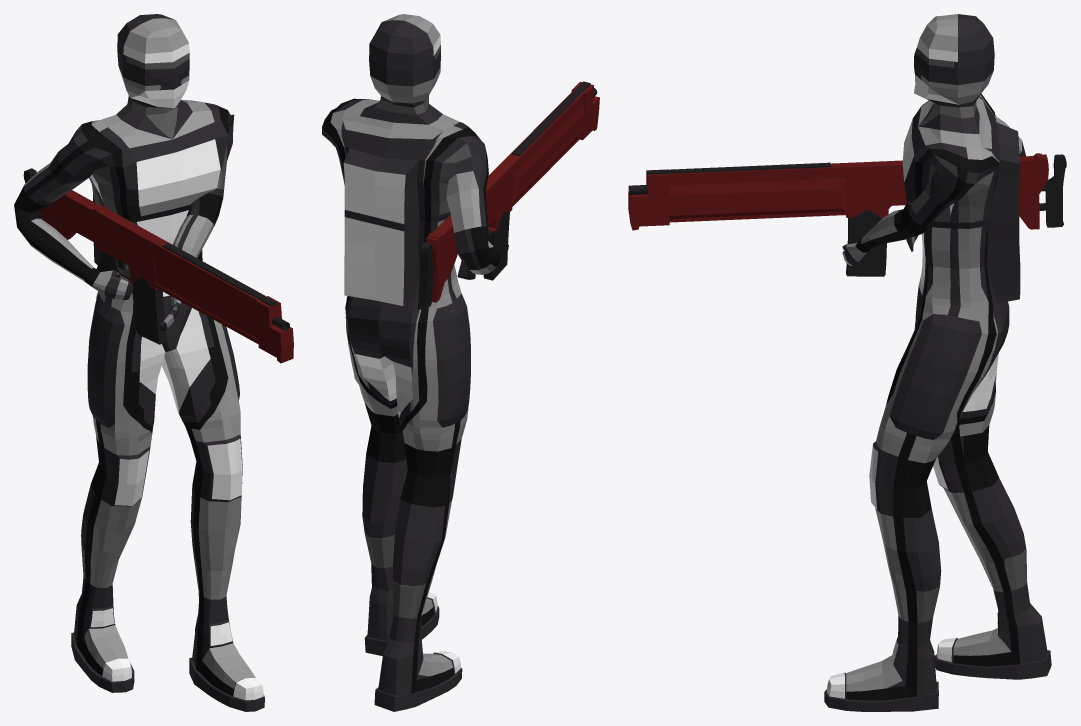
File: SCI1.obj
The picture shows the model from 3 angles, left to right: view 1: azimuth 30°, elevation 25°; view 2: azimuth 150°, elevation 25°; view 3: azimuth 270°, elevation 25°; orthographic projection. The views are drawn at different scales.
Visible parts, largest first — view 1: metarig_object_metarig_mesh, Cube.001; view 2: metarig_object_metarig_mesh, Cube.001; view 3: metarig_object_metarig_mesh, Cube.001.
Boxes of the visible parts, x1,y1,x2,y2 form: metarig_object_metarig_mesh: (14, 14, 264, 711); Cube.001: (23, 168, 293, 363); metarig_object_metarig_mesh: (322, 14, 508, 711); Cube.001: (417, 81, 599, 310); metarig_object_metarig_mesh: (824, 14, 1051, 711); Cube.001: (628, 153, 1066, 276).
Size of the model in its own units: 0.4654 by 1.53 by 0.9097.
2 materials, 2 textured.
